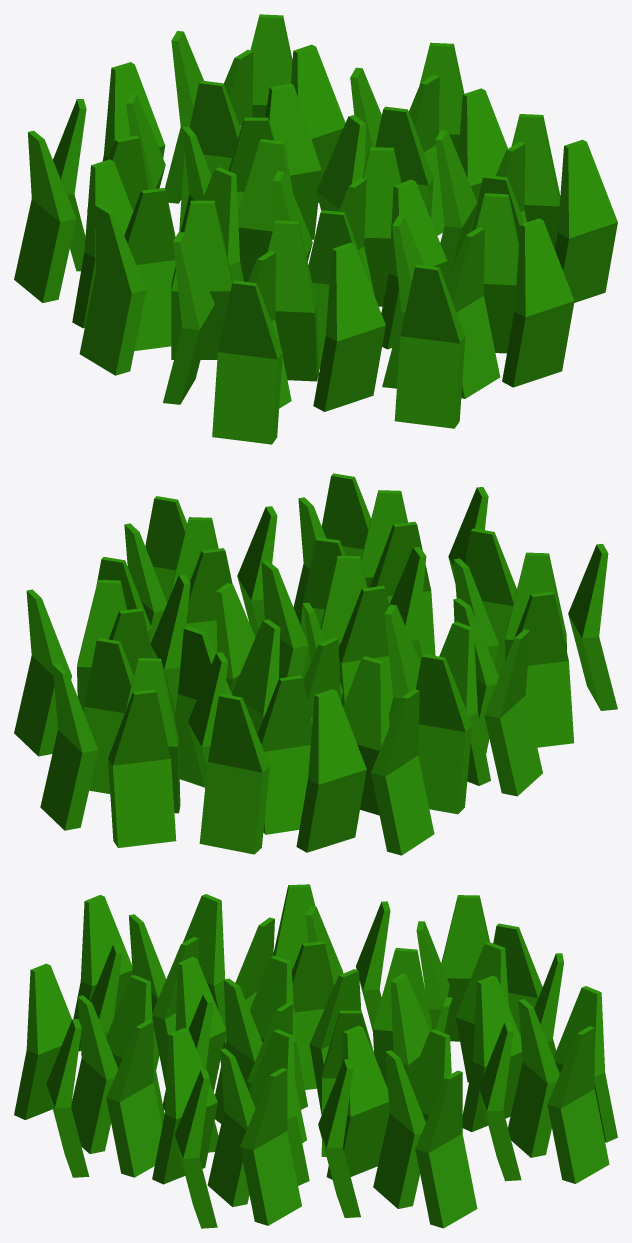
File: GRAMA #1.fbx
3 views of the same model, one above another, from view 1: azimuth 30°, elevation 25°; view 2: azimuth 150°, elevation 25°; view 3: azimuth 270°, elevation 25° (orthographic). The views are drawn at different scales.
Parts seen in each view (by area): view 1: Cube.022; view 2: Cube.022; view 3: Cube.022.
Part boxes in pixels (x1,y1,x2,y2): Cube.022: [14, 14, 617, 444]; Cube.022: [14, 473, 617, 855]; Cube.022: [14, 884, 617, 1228].
Size of the model in its own units: 625 by 200 by 773.
